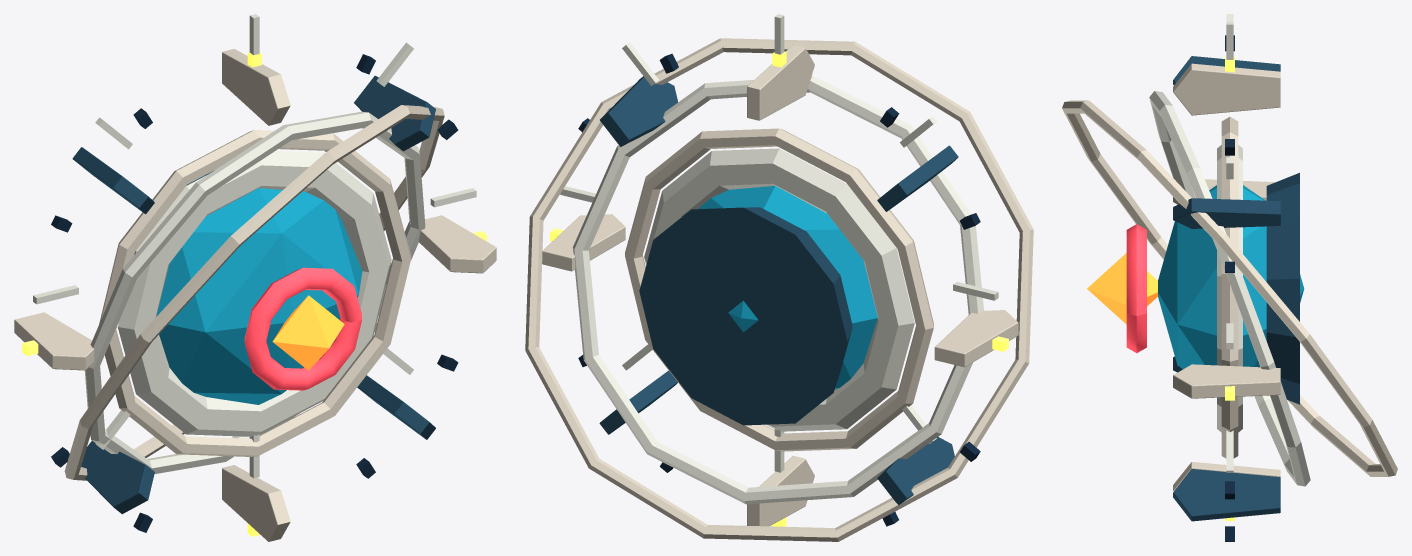
The model's file is prism-warden-low.glb.
3 views of the same model, side by side, from view 1: azimuth 30°, elevation 25°; view 2: azimuth 150°, elevation 25°; view 3: azimuth 270°, elevation 25° (orthographic). The views are drawn at different scales.
Parts seen in each view (by area): view 1: hull_static, porcelain_static, motion-lens, accent_static, telegraph_socket, exposed_core, dark_static, reward_static; view 2: hull_static, accent_static, porcelain_static, motion-lens, dark_static, reward_static; view 3: hull_static, accent_static, porcelain_static, motion-lens, telegraph_socket, exposed_core, dark_static.
Boxes of the visible parts, bbox=[...] form: hull_static: bbox=[14, 49, 496, 541]; porcelain_static: bbox=[33, 14, 476, 478]; motion-lens: bbox=[156, 188, 362, 404]; accent_static: bbox=[72, 75, 435, 514]; telegraph_socket: bbox=[244, 267, 361, 390]; exposed_core: bbox=[272, 295, 344, 370]; dark_static: bbox=[51, 54, 458, 532]; reward_static: bbox=[22, 52, 486, 536]; hull_static: bbox=[525, 38, 1033, 541]; accent_static: bbox=[599, 76, 958, 505]; porcelain_static: bbox=[560, 14, 998, 504]; motion-lens: bbox=[699, 186, 877, 389]; dark_static: bbox=[578, 53, 980, 526]; reward_static: bbox=[550, 51, 1008, 526]; hull_static: bbox=[1062, 63, 1397, 491]; accent_static: bbox=[1173, 56, 1299, 521]; porcelain_static: bbox=[1149, 14, 1310, 486]; motion-lens: bbox=[1158, 185, 1304, 369]; telegraph_socket: bbox=[1126, 224, 1146, 353]; exposed_core: bbox=[1087, 253, 1157, 324]; dark_static: bbox=[1225, 35, 1234, 541].
Bounding box in the file's own units: 3050 × 3285 × 2019.
